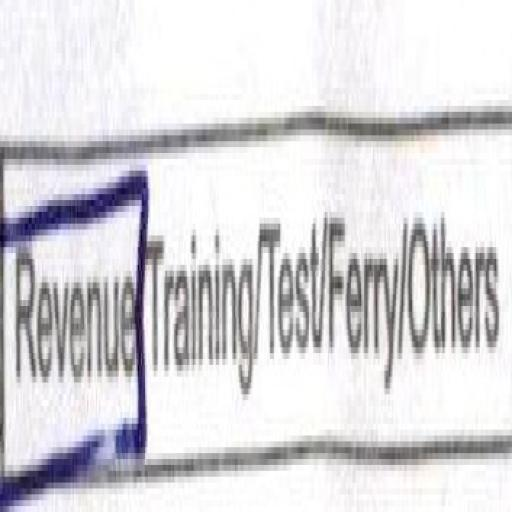check: (0, 141, 145, 483)
